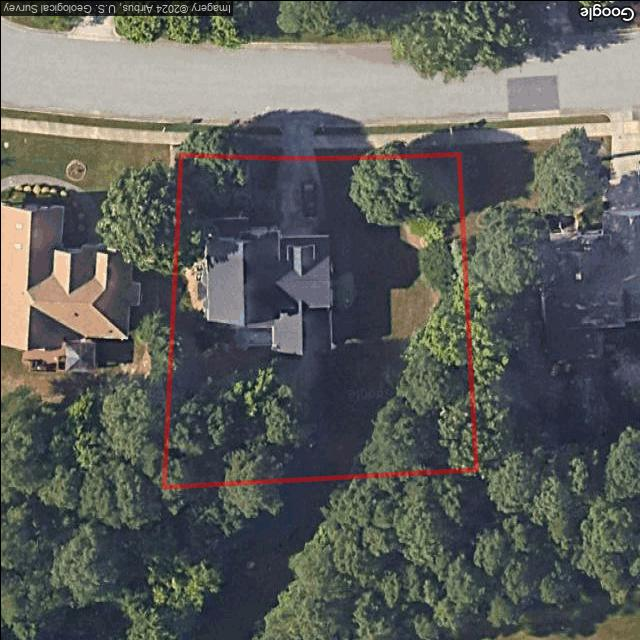Driveway: (275, 157, 326, 236)
Extra-Driveway: (277, 125, 317, 157)
Extra-Lawn: (312, 145, 459, 157), (312, 123, 459, 134), (179, 143, 281, 157), (180, 124, 282, 135)
Extra-Sidewalk: (312, 131, 460, 148), (179, 132, 282, 148)
House: (195, 228, 332, 353)
Lawn: (163, 154, 477, 485)
Other: (164, 154, 475, 489), (231, 324, 271, 348), (331, 273, 356, 309)
